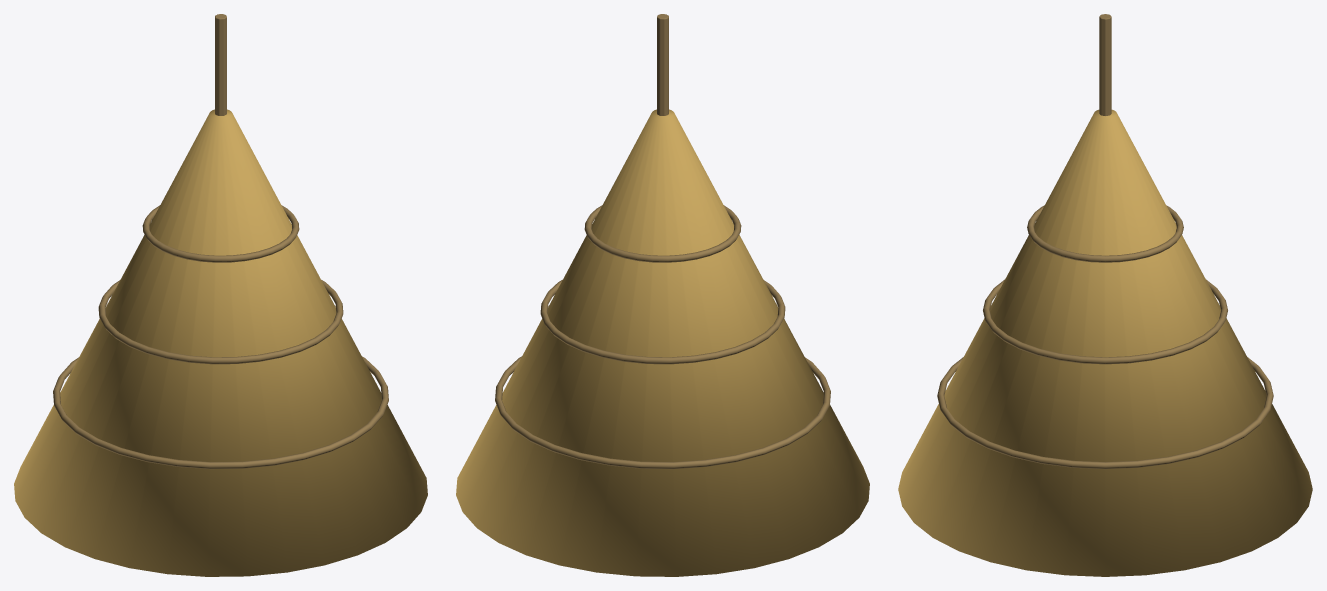
Rendered from Prop_Haystack_01_Detailed.fbx.
3 views of the same model, side by side, from view 1: azimuth 30°, elevation 25°; view 2: azimuth 150°, elevation 25°; view 3: azimuth 270°, elevation 25° (orthographic).
Visible parts, largest first — view 1: Prop_Haystack_01_Stack, Prop_Haystack_01_Rope_0.72, Prop_Haystack_01_Rope_1.38, Prop_Haystack_01_Rope_2.02, Prop_Haystack_01_Pole; view 2: Prop_Haystack_01_Stack, Prop_Haystack_01_Rope_0.72, Prop_Haystack_01_Rope_1.38, Prop_Haystack_01_Rope_2.02, Prop_Haystack_01_Pole; view 3: Prop_Haystack_01_Stack, Prop_Haystack_01_Rope_0.72, Prop_Haystack_01_Rope_1.38, Prop_Haystack_01_Rope_2.02, Prop_Haystack_01_Pole.
Part boxes in pixels (x1,y1,x2,y2): Prop_Haystack_01_Stack: (14,109,427,576); Prop_Haystack_01_Rope_0.72: (53,356,388,469); Prop_Haystack_01_Rope_1.38: (98,280,343,364); Prop_Haystack_01_Rope_2.02: (142,205,299,262); Prop_Haystack_01_Pole: (215,14,226,115); Prop_Haystack_01_Stack: (456,109,869,576); Prop_Haystack_01_Rope_0.72: (495,356,830,469); Prop_Haystack_01_Rope_1.38: (540,280,785,364); Prop_Haystack_01_Rope_2.02: (584,205,741,262); Prop_Haystack_01_Pole: (657,14,668,115); Prop_Haystack_01_Stack: (898,109,1312,576); Prop_Haystack_01_Rope_0.72: (937,357,1273,469); Prop_Haystack_01_Rope_1.38: (983,279,1227,364); Prop_Haystack_01_Rope_2.02: (1027,205,1183,262); Prop_Haystack_01_Pole: (1099,14,1111,115).
Bounding box in the file's own units: 290 × 365 × 290.
